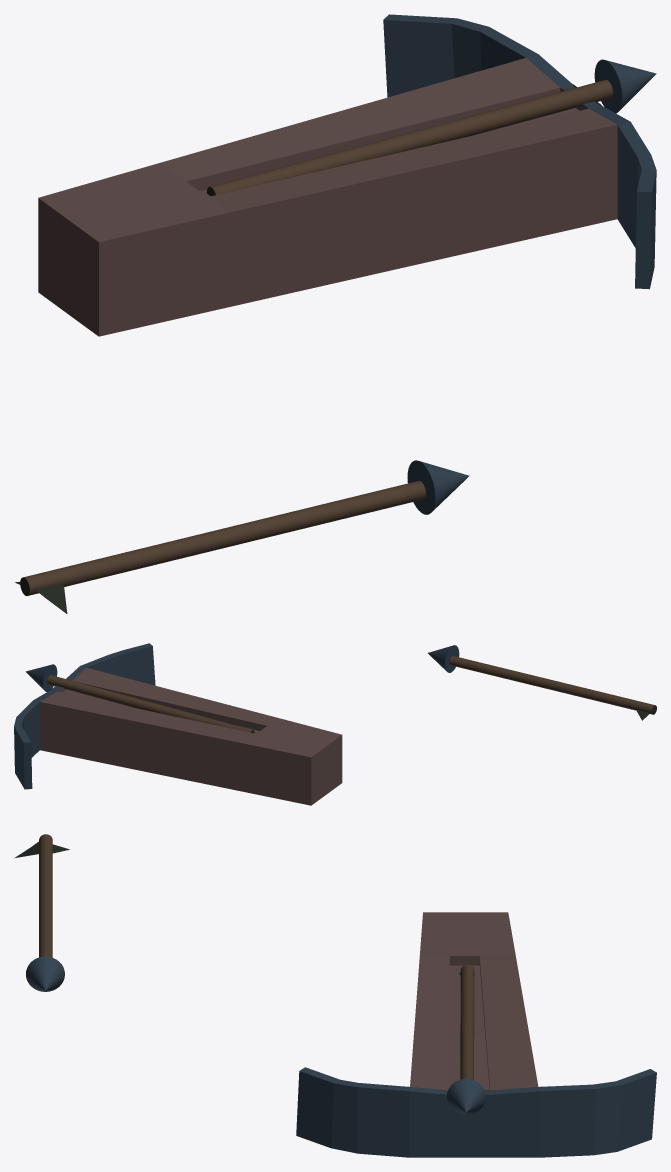
Rendered from Crossbow and Arrow.fbx.
The picture shows the model from 3 angles, top to bottom: view 1: azimuth 30°, elevation 25°; view 2: azimuth 150°, elevation 25°; view 3: azimuth 270°, elevation 25°; orthographic projection. The views are drawn at different scales.
Parts seen in each view (by area): view 1: Crossbow, Arrow; view 2: Crossbow, Arrow; view 3: Crossbow, Arrow.
Boxes of the visible parts, x1=… form: Crossbow: x1=38, y1=14, x2=656, y2=336; Arrow: x1=14, y1=460, x2=469, y2=613; Crossbow: x1=14, y1=643, x2=342, y2=805; Arrow: x1=428, y1=645, x2=656, y2=720; Crossbow: x1=296, y1=912, x2=656, y2=1157; Arrow: x1=14, y1=834, x2=69, y2=991.
Size of the model in its own units: 605 by 78.26 by 515.
